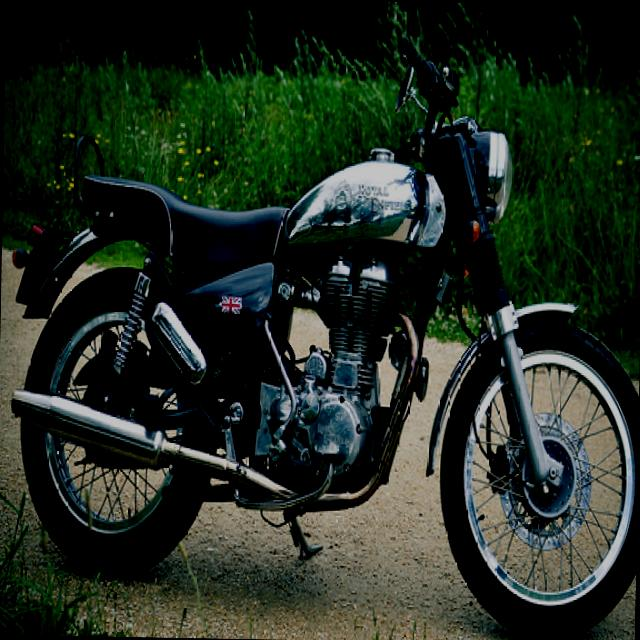Vehicle: (5, 18, 640, 634)
